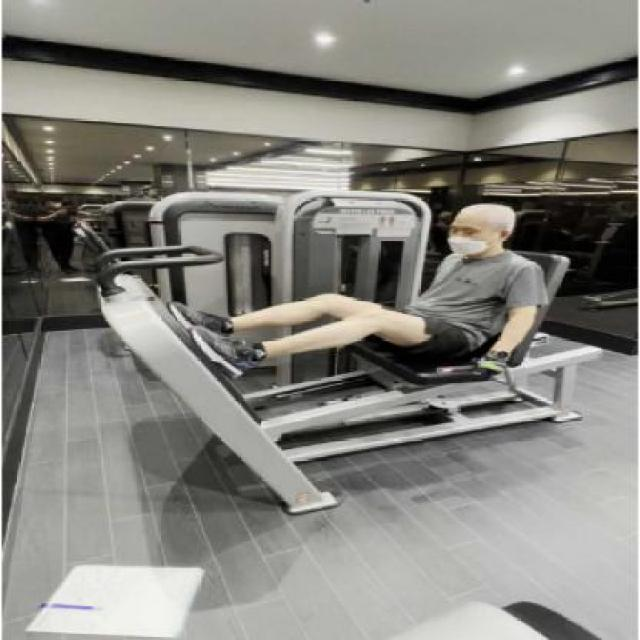leg press: (31, 171, 634, 552)
